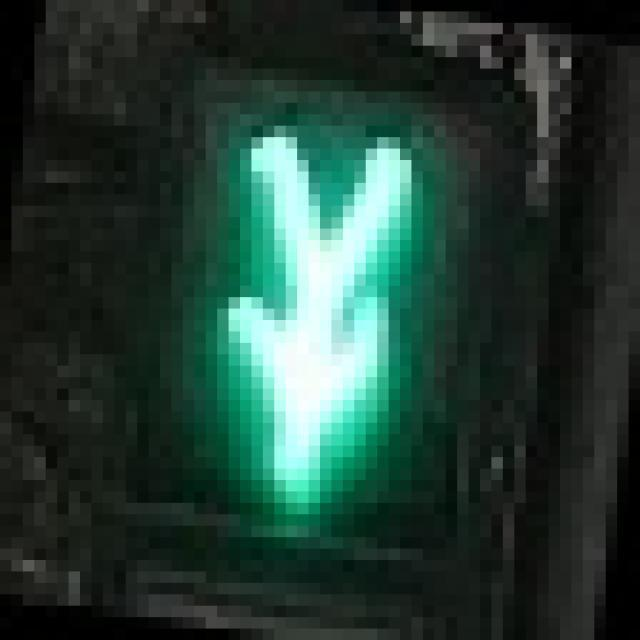geen-crossing: (114, 69, 480, 538)
